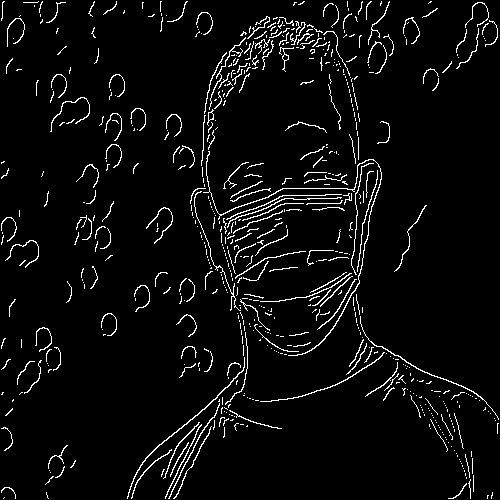mask: (207, 200, 376, 341)
